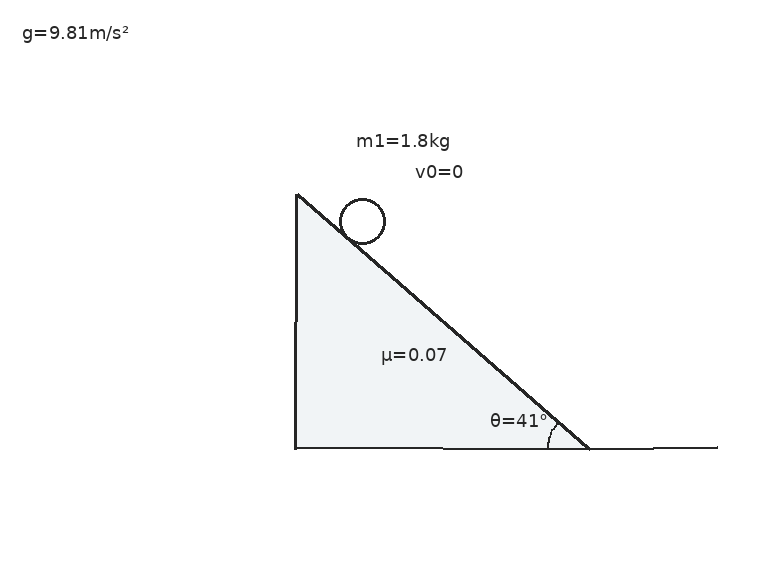ball: (337, 196, 387, 246)
ramp: (294, 192, 590, 450)
